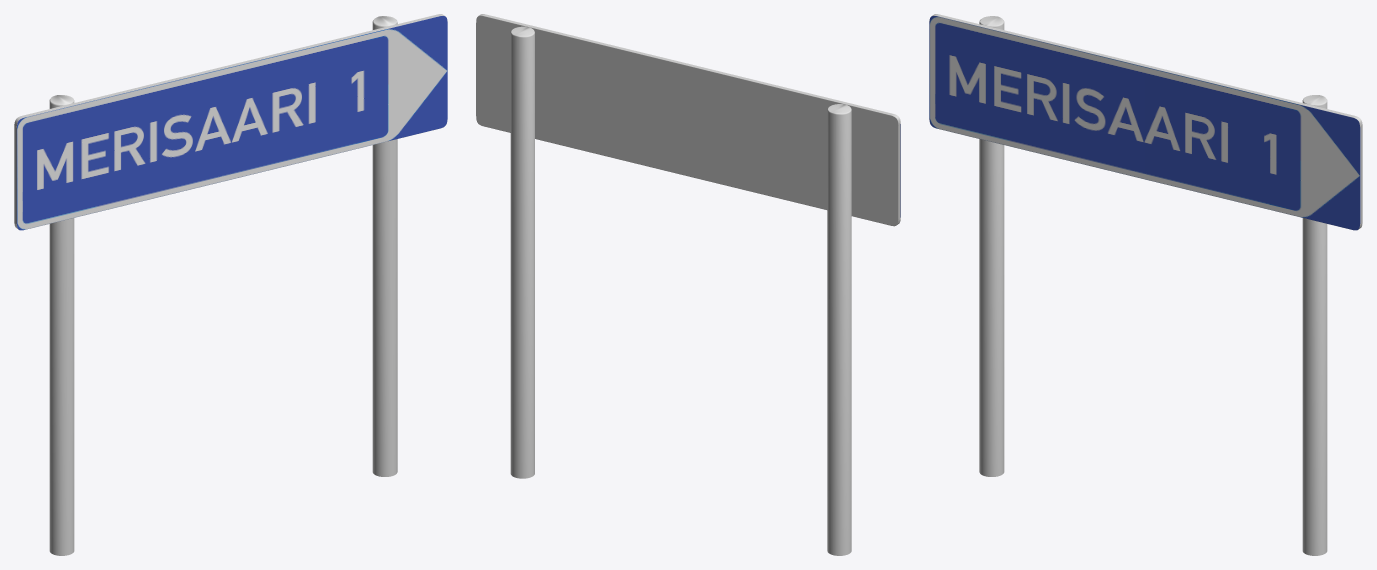
The model's file is sign.fbx.
The picture shows the model from 3 angles, left to right: view 1: azimuth 30°, elevation 25°; view 2: azimuth 150°, elevation 25°; view 3: azimuth 330°, elevation 25°; orthographic projection. The views are drawn at different scales.
Visible parts, largest first — view 1: Cube.001, Cube; view 2: Cube.001, Cube; view 3: Cube.001, Cube.
Part boxes in pixels (x1=…): Cube.001: x1=14, y1=14, x2=447, y2=230; Cube: x1=49, y1=16, x2=397, y2=555; Cube.001: x1=476, y1=14, x2=900, y2=226; Cube: x1=510, y1=26, x2=851, y2=555; Cube.001: x1=929, y1=14, x2=1362, y2=230; Cube: x1=979, y1=16, x2=1327, y2=555.
Size of the model in its own units: 200 by 200 by 11.97.
Materials: 3 (1 with a texture image).
